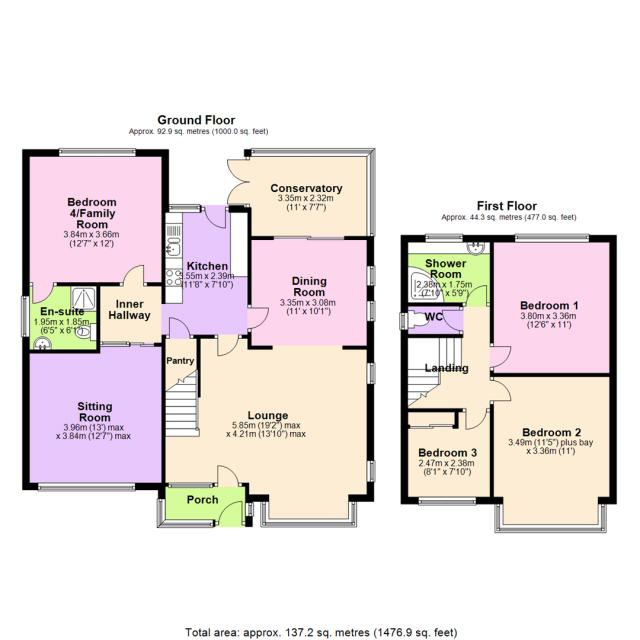DOOR: (217, 500, 244, 527), (30, 280, 56, 306), (245, 305, 271, 331), (216, 463, 241, 489), (215, 333, 241, 358), (463, 406, 488, 432), (121, 263, 146, 288), (167, 315, 192, 340), (203, 205, 227, 231), (441, 308, 465, 334), (464, 284, 489, 308), (488, 379, 513, 402)
DOUBLE DOOR: (272, 235, 346, 241)
ROOM: (162, 235, 378, 529), (21, 148, 166, 306), (19, 341, 166, 492), (489, 372, 618, 535), (489, 233, 618, 378), (161, 203, 271, 358), (226, 147, 377, 241), (399, 408, 495, 507)
SLIDING DOOR: (129, 341, 157, 347)
WINDOW: (250, 146, 378, 158), (493, 522, 608, 534), (36, 481, 137, 493), (259, 516, 358, 528), (364, 147, 376, 237), (58, 146, 138, 158), (514, 232, 591, 244), (155, 516, 215, 529), (417, 495, 477, 507), (488, 344, 514, 369), (19, 295, 32, 339), (155, 497, 168, 531), (424, 232, 464, 243), (168, 202, 202, 214), (596, 503, 608, 535), (493, 503, 505, 534), (168, 482, 215, 489), (365, 361, 377, 386), (260, 500, 271, 527), (347, 501, 358, 528), (365, 300, 377, 323), (365, 460, 376, 483), (365, 264, 376, 287), (101, 340, 129, 349), (398, 312, 410, 331), (244, 501, 255, 518)
